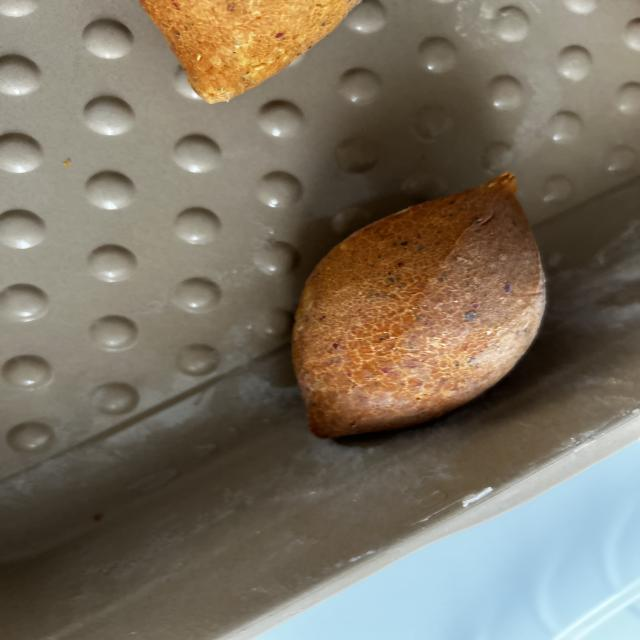kobi: (289, 171, 548, 439), (128, 1, 361, 104)
